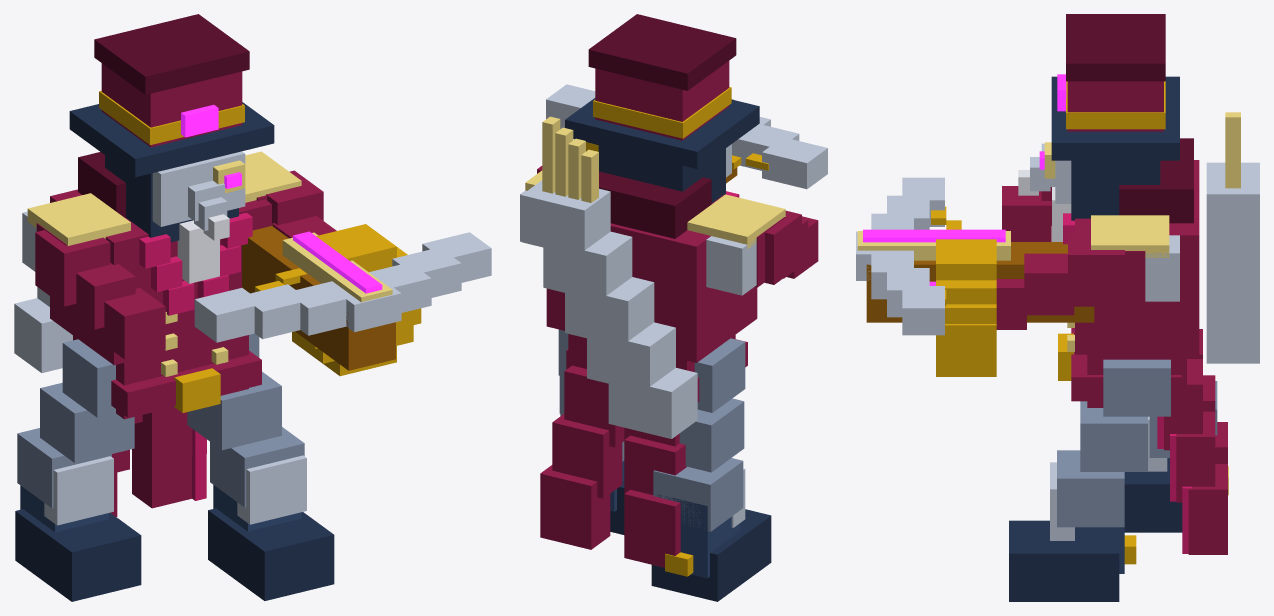
File: syndicate-repeating-arbalest.glb
3 renders of one model, left to right at view 1: azimuth 30°, elevation 25°; view 2: azimuth 150°, elevation 25°; view 3: azimuth 270°, elevation 25°, orthographic. The views are drawn at different scales.
Visible parts, largest first — view 1: Boots, Trousers, ArbalestLimbs, Sleeves, Hat, HatTop, Greaves, Coattails, Vest, ArbalestStock, Epaulettes, RavenMask (+16 smaller); view 2: Quiver, Coattails, Trousers, Hat, Vest, Boots, HatTop, ArbalestLimbs, HighCollar, GoldFletch, Sleeves, Hood (+5 smaller); view 3: Trousers, Boots, Sleeves, Quiver, Hat, Coattails, Vest, ArbalestLimbs, RotaryMagazine, HatTop, Hood, HighCollar (+14 smaller).
Boxes of the visible parts, box(x1,y1,x2,y2) form: Boots: box(15, 485, 334, 601); Trousers: box(17, 333, 304, 508); ArbalestLimbs: box(194, 232, 491, 342); Sleeves: box(35, 170, 336, 359); Hat: box(69, 63, 274, 177); HatTop: box(94, 14, 249, 94); Greaves: box(44, 455, 306, 525); Coattails: box(110, 407, 192, 516); Vest: box(50, 189, 271, 365); ArbalestStock: box(242, 224, 395, 370); Epaulettes: box(27, 151, 301, 245); RavenMask: box(152, 151, 245, 240); Quiver: box(521, 180, 697, 438); Coattails: box(540, 365, 686, 567); Trousers: box(558, 329, 745, 531); Hat: box(565, 61, 759, 168); Vest: box(546, 194, 757, 362); Boots: box(610, 460, 771, 601); HatTop: box(588, 14, 736, 90); ArbalestLimbs: box(546, 84, 827, 189); HighCollar: box(599, 171, 711, 238); GoldFletch: box(542, 116, 598, 202); Sleeves: box(537, 166, 818, 287); Hood: box(598, 145, 725, 202); Trousers: box(1057, 359, 1217, 527); Boots: box(1009, 458, 1182, 601); Sleeves: box(996, 186, 1145, 329); Quiver: box(1206, 162, 1259, 363); Hat: box(1051, 76, 1179, 160); Coattails: box(1164, 329, 1227, 554); Vest: box(1075, 160, 1199, 354); ArbalestLimbs: box(856, 177, 944, 335); RotaryMagazine: box(936, 239, 996, 376); HatTop: box(1066, 14, 1165, 81); Hood: box(1071, 160, 1160, 220); HighCollar: box(1119, 138, 1193, 223).
Bounding box in the file's own units: 1.09 × 1.62 × 1.16.
